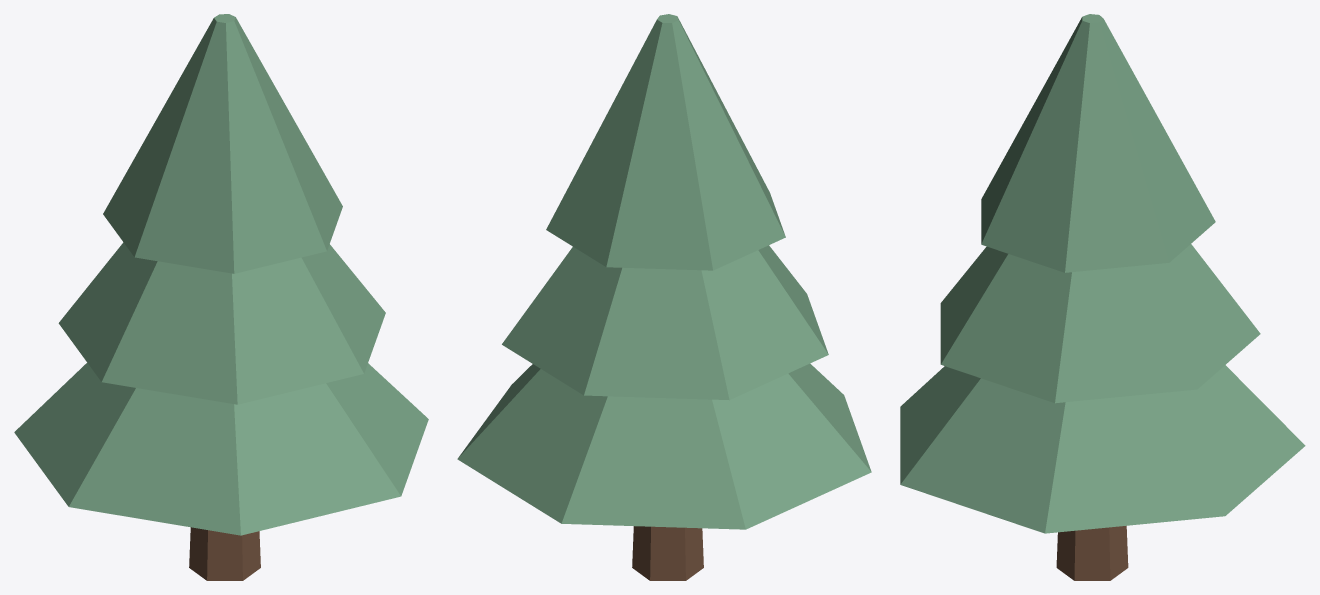
File: pine.glb
3 renders of one model, left to right at view 1: azimuth 30°, elevation 25°; view 2: azimuth 150°, elevation 25°; view 3: azimuth 270°, elevation 25°, orthographic.
Visible parts, largest first — view 1: pine; view 2: pine; view 3: pine.
Boxes of the visible parts, bbox=[...] form: pine: bbox=[14, 14, 428, 580]; pine: bbox=[457, 14, 871, 580]; pine: bbox=[900, 14, 1305, 580].
Size of the model in its own units: 1.85 by 2.7 by 1.81.
